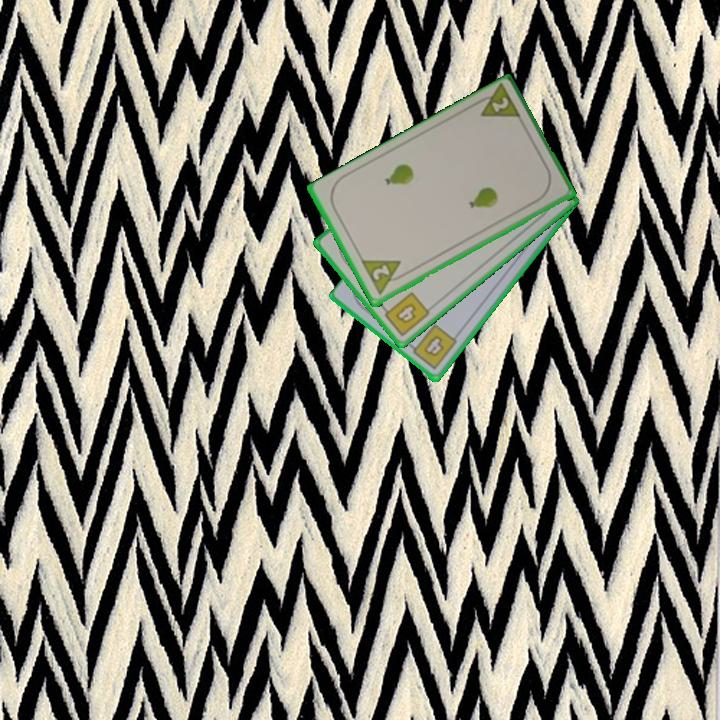2p: (470, 82, 525, 123), (358, 256, 410, 298)
4b: (405, 321, 460, 373), (377, 288, 433, 339)
